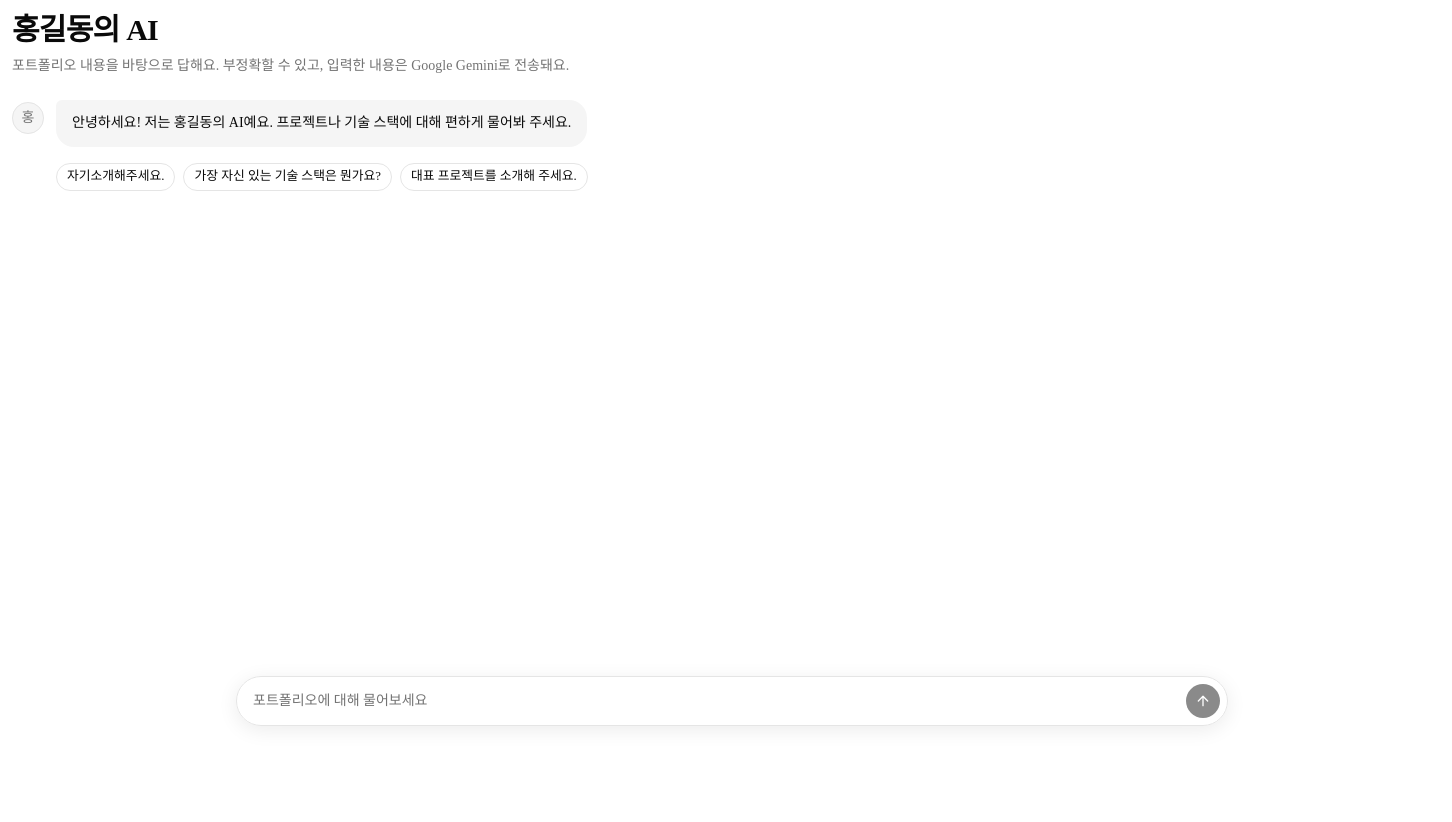
Test case: ChatPanel › 하루 한도(daily_limit)는 안내만 보여주고 초 카운트다운으로 입력을 막지 않는다
In the field named "질문": (715, 701) [253,683,1177,719], type "안녕"
Then press Enter
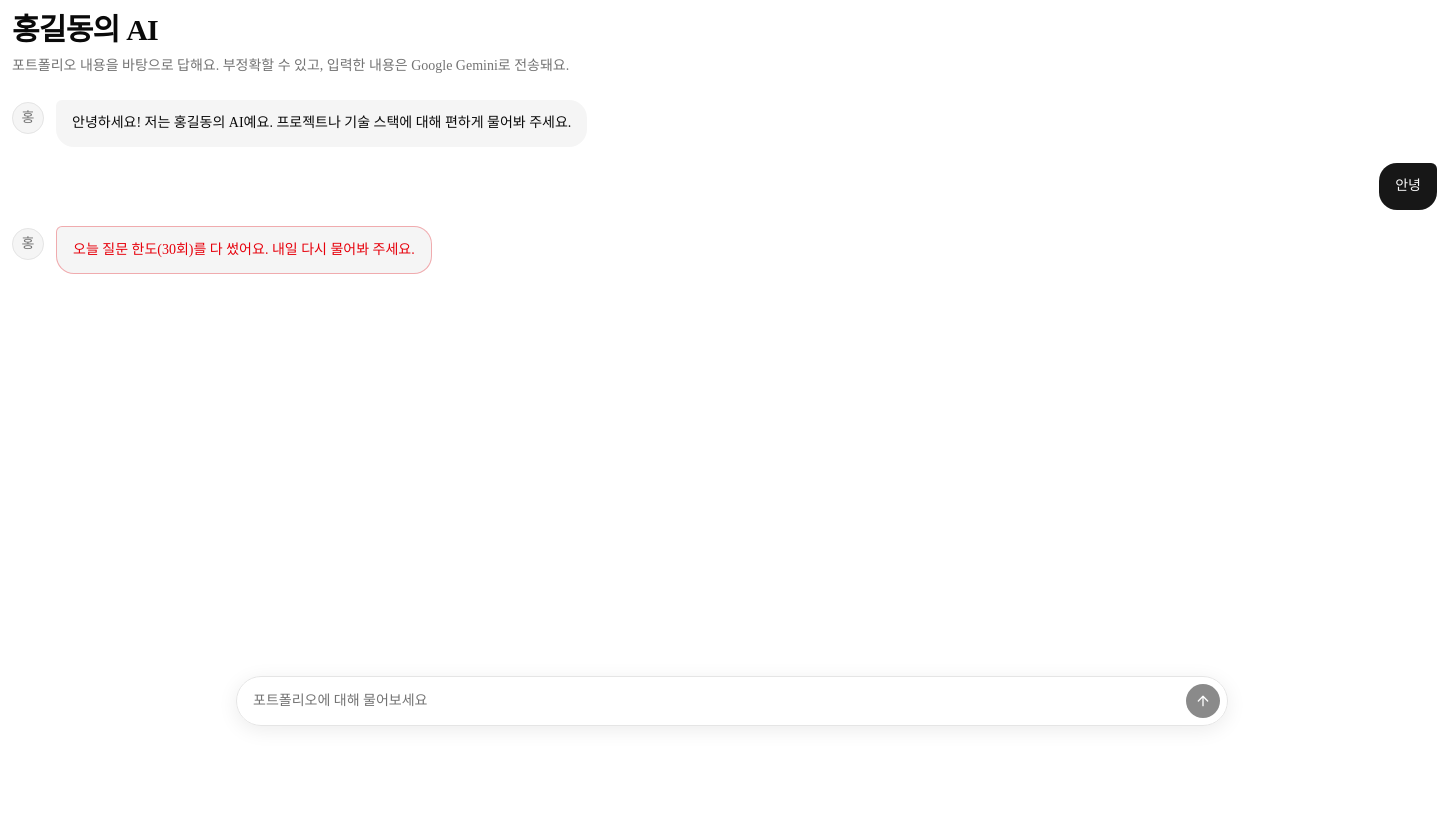
Result: the message shows "오늘 질문 한도(30회)를 다 썼어요." at [73,242,415,256]
